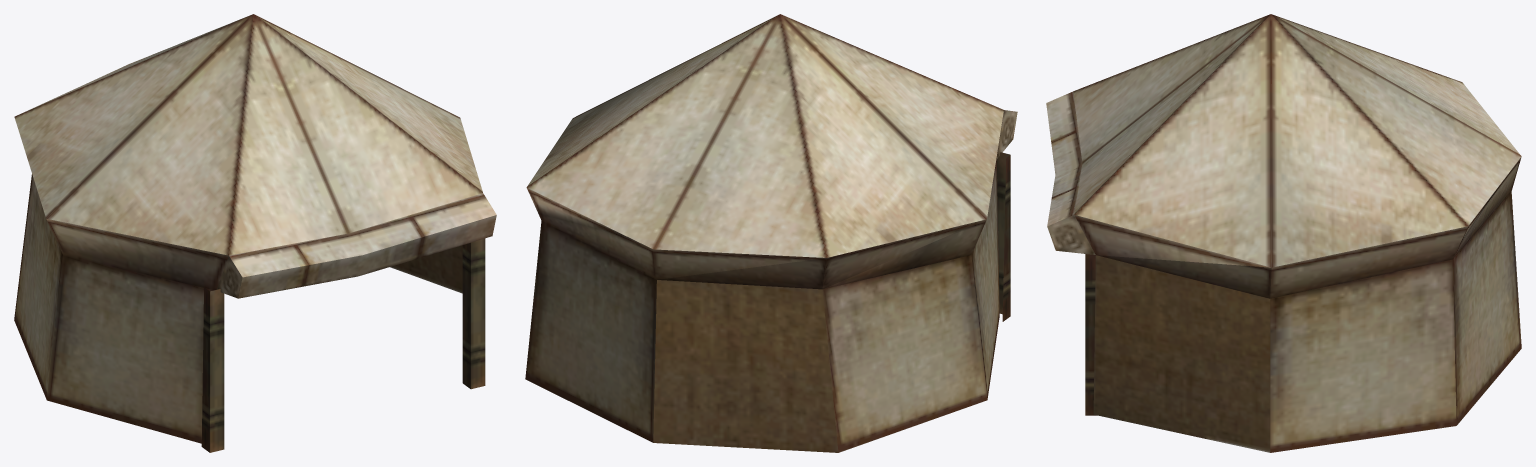
File: b_general_obj_03.fbx
3 views of the same model, side by side, from view 1: azimuth 30°, elevation 25°; view 2: azimuth 150°, elevation 25°; view 3: azimuth 270°, elevation 25° (orthographic).
Parts seen in each view (by area): view 1: Mesh02; view 2: Mesh02; view 3: Mesh02.
Boxes of the visible parts, x1=… form: Mesh02: x1=14, y1=14, x2=496, y2=452; Mesh02: x1=525, y1=14, x2=1017, y2=452; Mesh02: x1=1046, y1=14, x2=1521, y2=452.
Bounding box in the file's own units: 6.72 × 5.1 × 6.56.
